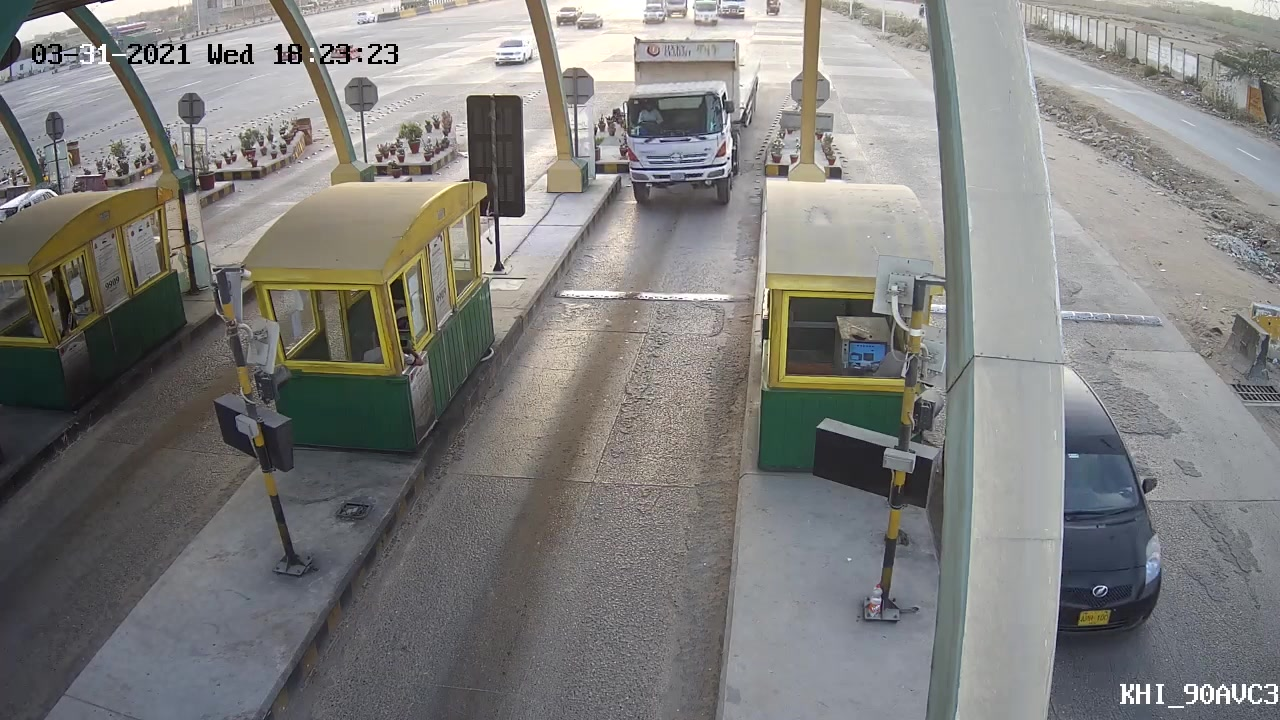F6: (609, 17, 768, 215)
